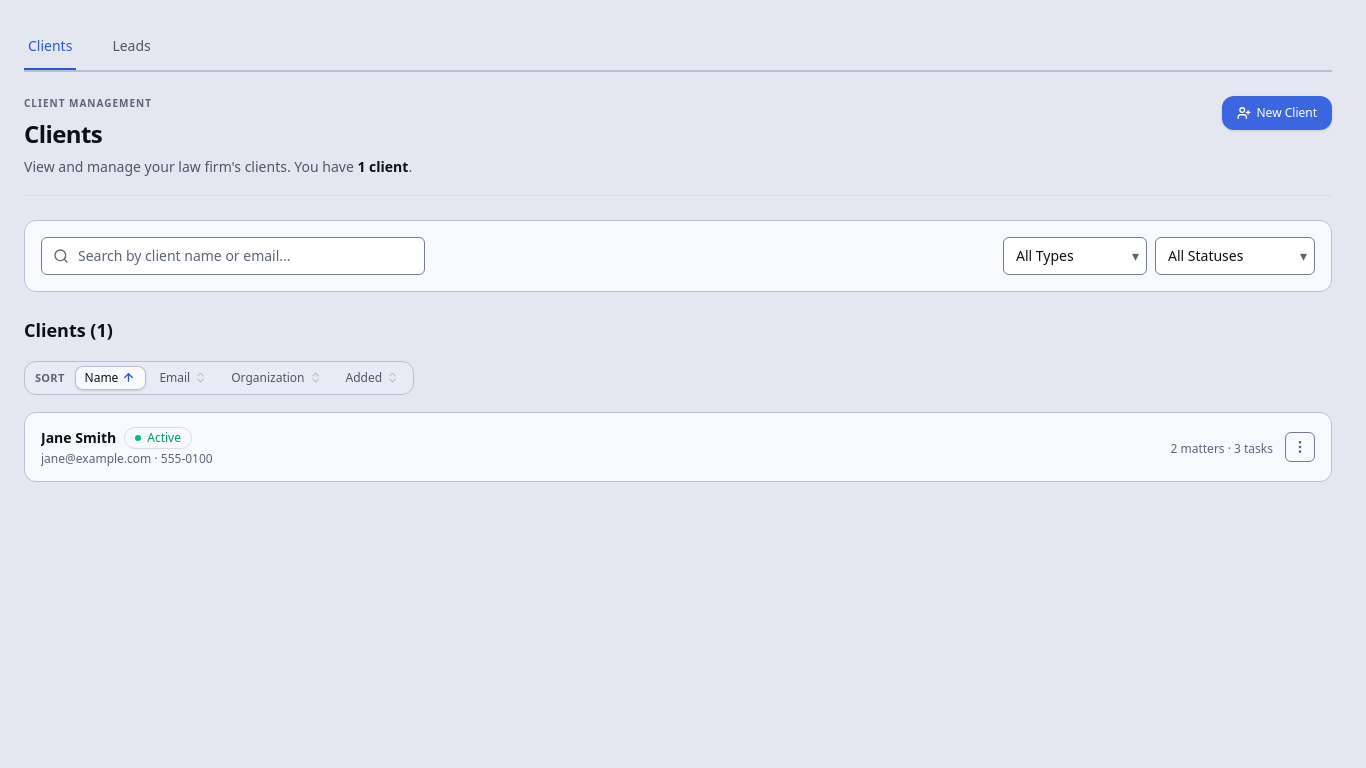
Test: a successful action: removing a client › removes the client and refreshes the list
This screenshot has width=1366, height=768.
Expected: the text "Jane Smith" is shown, [41,428,116,448]
Click the button named "Actions for Jane Smith" at (1300, 447), box [1285,432,1315,462]
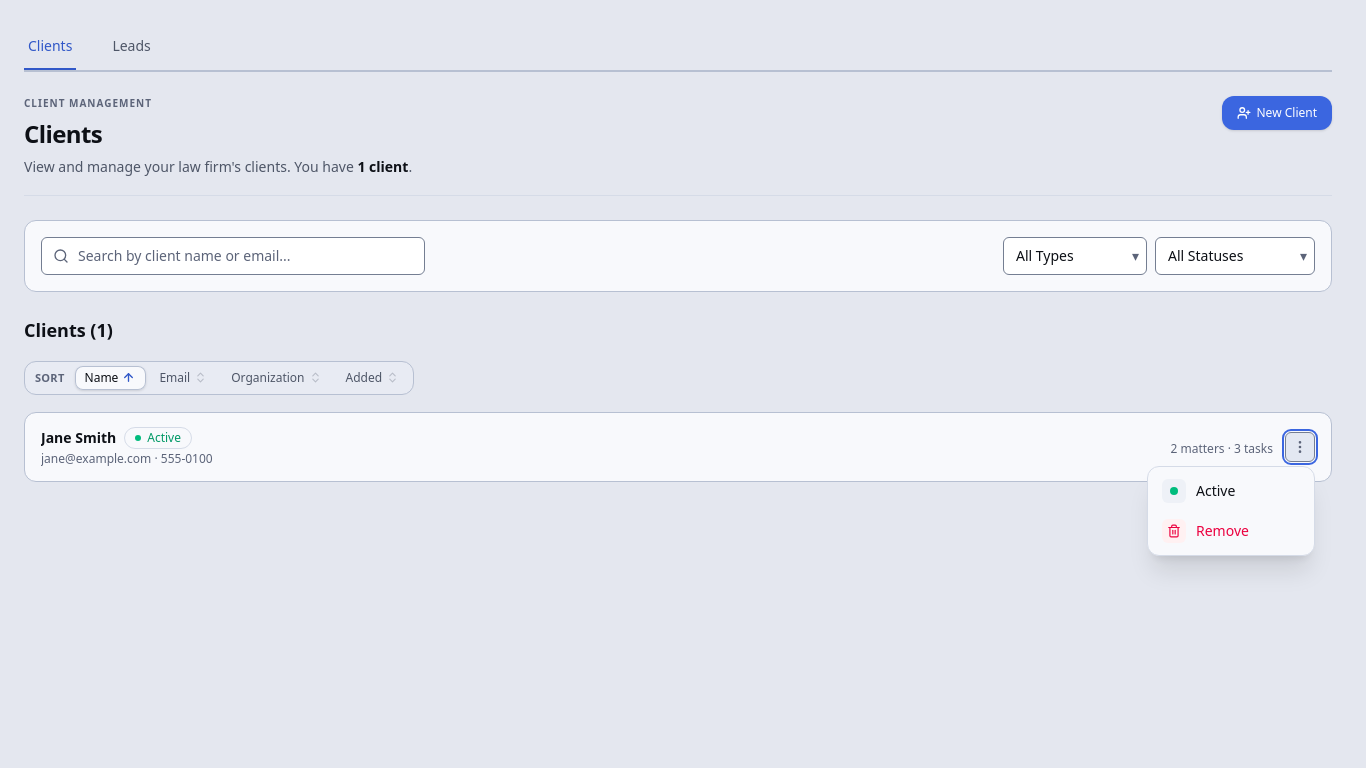
Click the menu item "Remove" at (1231, 531), box [1152,511,1310,551]
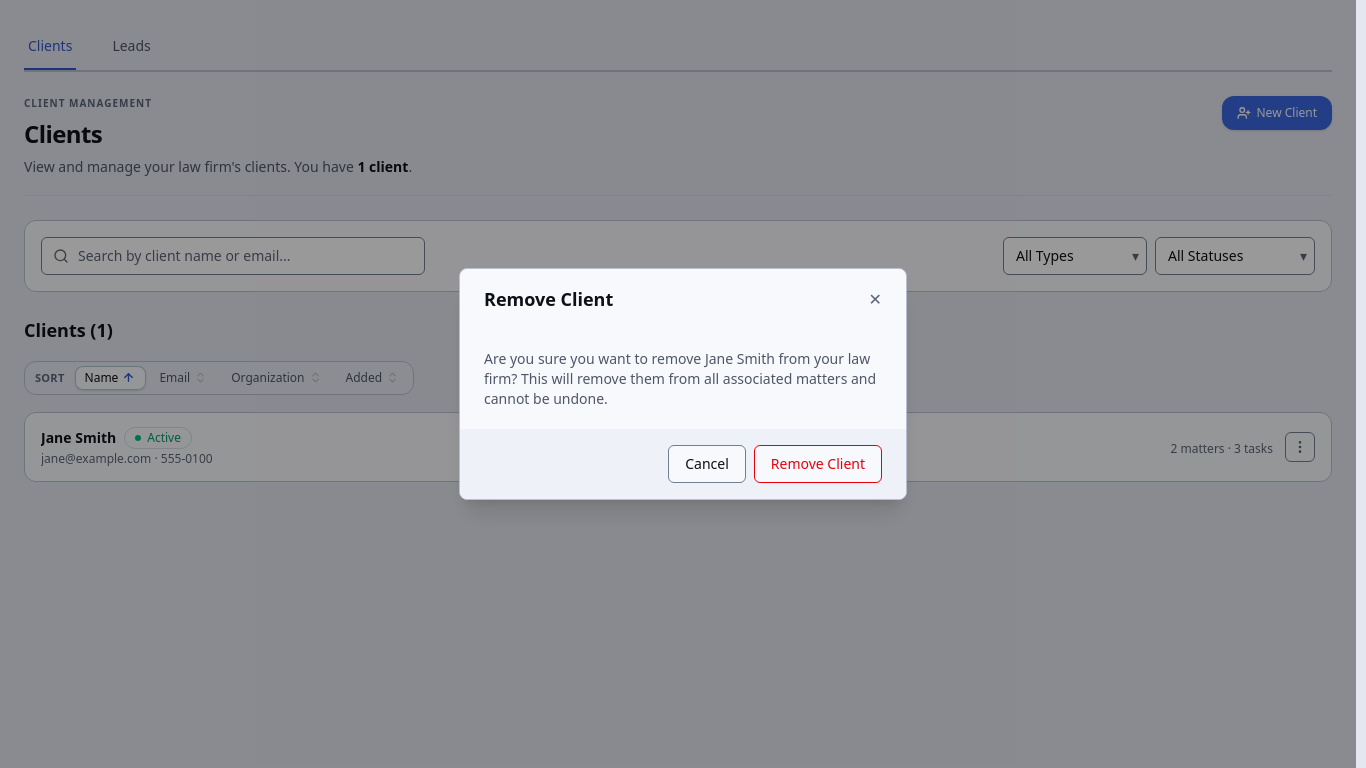
Expected: the text "Jane Smith" is shown, [484,349,876,408]
Click the button "Remove Client" at (818, 464), box [754,445,882,483]
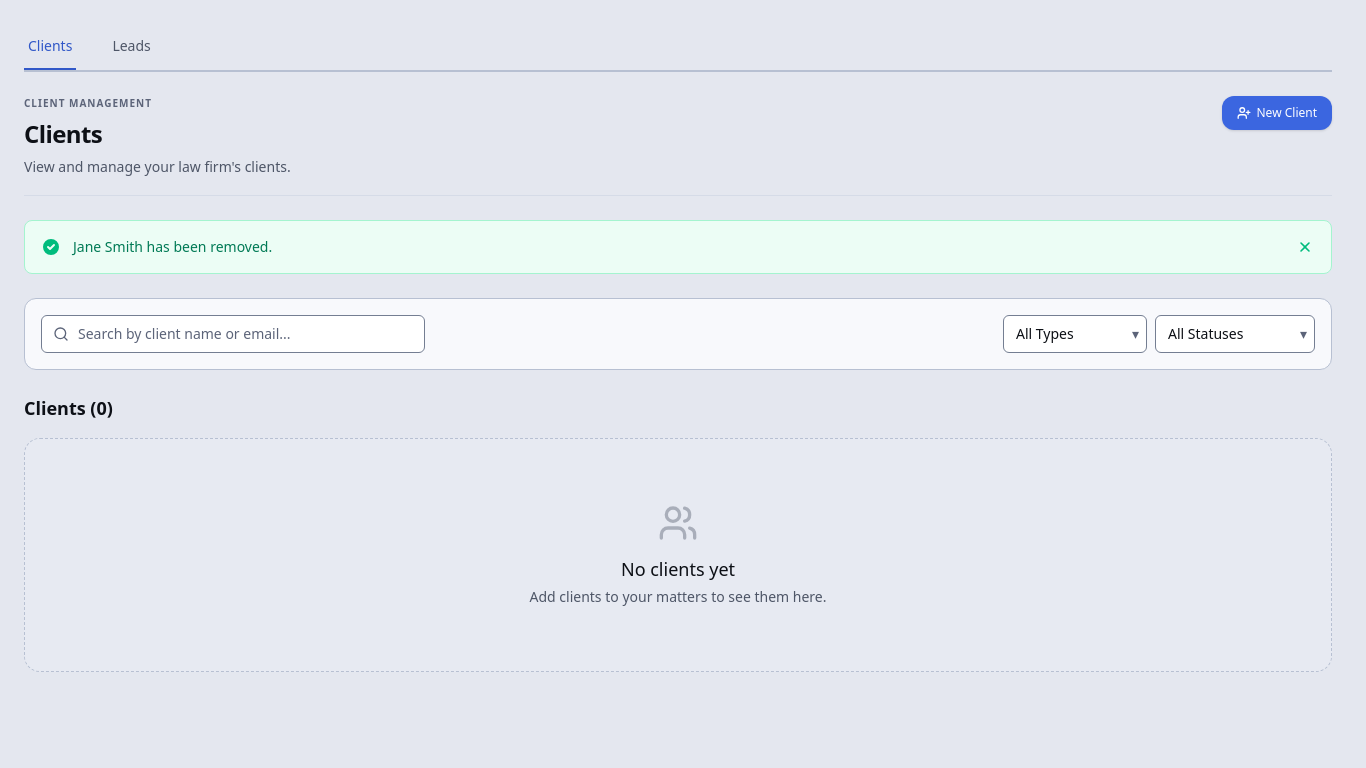
Expected: the text "No clients yet" is shown, [621,557,735,581]
Expected: the text "Jane Smith has been removed." is shown, [73,237,272,256]
